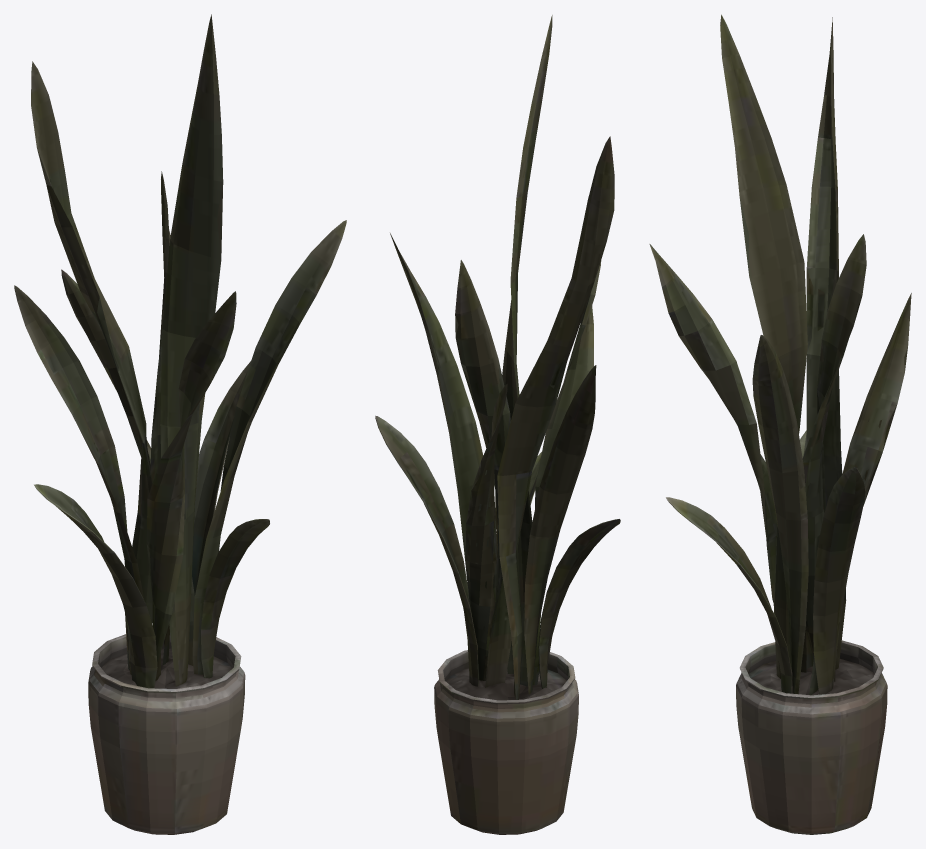
The model's file is 2014_WSJ_JJ_30.FBX.
3 views of the same model, side by side, from view 1: azimuth 30°, elevation 25°; view 2: azimuth 150°, elevation 25°; view 3: azimuth 270°, elevation 25° (orthographic). The views are drawn at different scales.
Visible parts, largest first — view 1: 2014_WSJ_JJ_30; view 2: 2014_WSJ_JJ_30; view 3: 2014_WSJ_JJ_30.
Boxes of the visible parts, x1=… form: 2014_WSJ_JJ_30: x1=14, y1=14, x2=346, y2=834; 2014_WSJ_JJ_30: x1=375, y1=15, x2=620, y2=834; 2014_WSJ_JJ_30: x1=649, y1=14, x2=911, y2=834.
Bounding box in the file's own units: 0.4814 × 1.36 × 0.4061.
